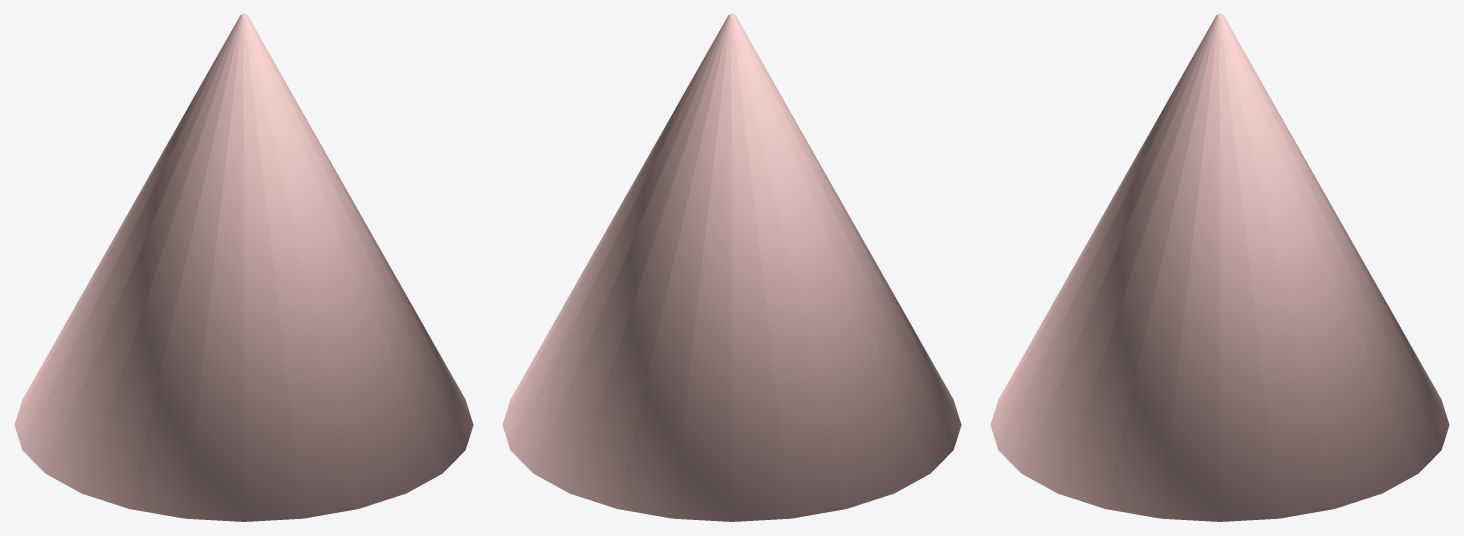
The model's file is ConeSmall_2.fbx.
3 views of the same model, side by side, from view 1: azimuth 30°, elevation 25°; view 2: azimuth 150°, elevation 25°; view 3: azimuth 270°, elevation 25° (orthographic).
Visible parts, largest first — view 1: Cone; view 2: Cone; view 3: Cone.
Boxes of the visible parts, x1,y1,x2,y2 form: Cone: (14, 14, 473, 521); Cone: (502, 14, 961, 521); Cone: (990, 14, 1449, 521).
Bounding box in the file's own units: 200 × 197 × 200.
